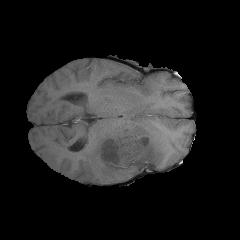glioma: (76, 117, 175, 183)
